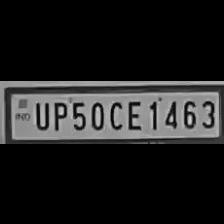0: (87, 98, 105, 130)
1: (143, 96, 159, 130)
3: (198, 95, 216, 129)
4: (161, 96, 179, 128)
5: (68, 97, 86, 130)
6: (178, 96, 196, 128)
C: (106, 96, 122, 130)
E: (124, 97, 142, 131)
P: (48, 97, 68, 130)
U: (31, 98, 50, 130)
